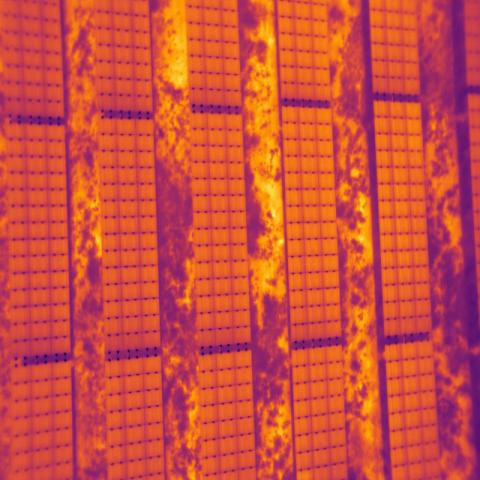fault: (297, 469, 315, 480)
